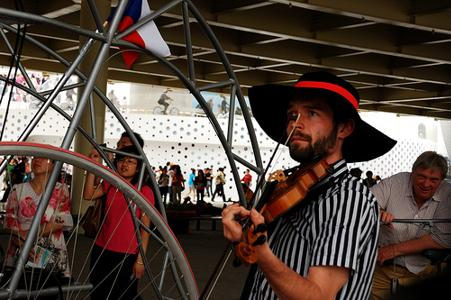person: (222, 70, 380, 300)
